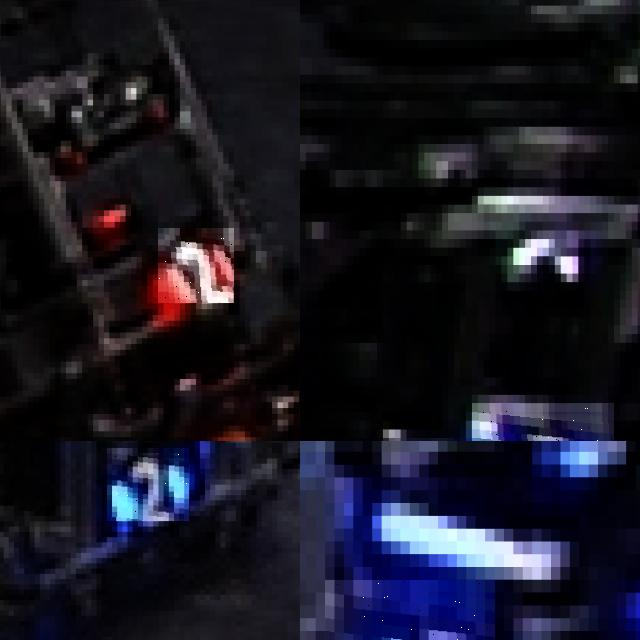B2: (107, 448, 189, 521), (472, 403, 614, 441)
B5: (325, 580, 494, 640)
R2: (158, 228, 234, 303)
